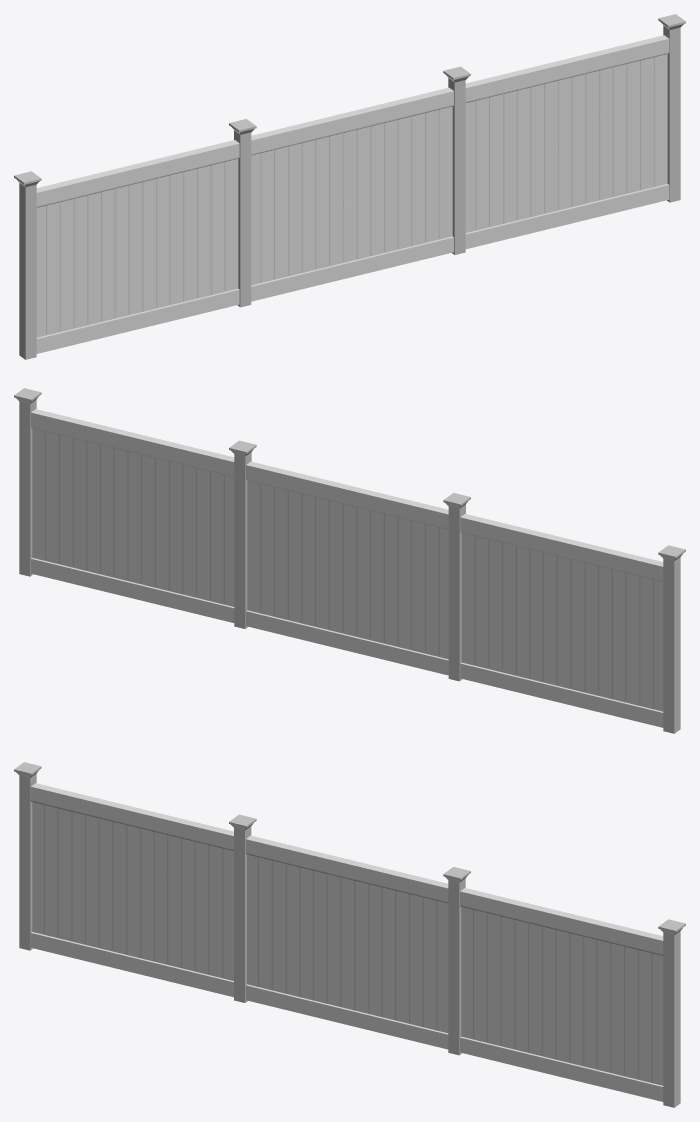
The model's file is White_Pvc_.fbx.
3 renders of one model, top to bottom at view 1: azimuth 30°, elevation 25°; view 2: azimuth 150°, elevation 25°; view 3: azimuth 330°, elevation 25°, orthographic.
Visible parts, largest first — view 1: Pvc_Panel_2, Pvc_Panel_, Pvc_Panel_1, Pvc_Joint_04, Pvc_Joint_03, Pvc_Joint_02, Pvc_Joint_01; view 2: Pvc_Panel_, Pvc_Panel_2, Pvc_Panel_1, Pvc_Joint_04, Pvc_Joint_03, Pvc_Joint_02, Pvc_Joint_01; view 3: Pvc_Panel_2, Pvc_Panel_1, Pvc_Panel_, Pvc_Joint_01, Pvc_Joint_02, Pvc_Joint_04, Pvc_Joint_03.
Part boxes in pixels (x1,y1,x2,y2): Pvc_Panel_2: (465, 35, 669, 249); Pvc_Panel_: (36, 140, 239, 353); Pvc_Panel_1: (251, 87, 453, 301); Pvc_Joint_04: (14, 171, 41, 359); Pvc_Joint_03: (229, 119, 256, 307); Pvc_Joint_02: (443, 66, 470, 254); Pvc_Joint_01: (658, 14, 685, 202); Pvc_Panel_: (460, 513, 663, 727); Pvc_Panel_2: (31, 409, 234, 622); Pvc_Panel_1: (246, 461, 448, 675); Pvc_Joint_04: (658, 545, 685, 733); Pvc_Joint_03: (443, 493, 470, 681); Pvc_Joint_02: (229, 440, 256, 628); Pvc_Joint_01: (14, 388, 41, 576); Pvc_Panel_2: (460, 888, 663, 1101); Pvc_Panel_1: (245, 835, 448, 1049); Pvc_Panel_: (30, 783, 233, 997); Pvc_Joint_01: (658, 919, 685, 1107); Pvc_Joint_02: (443, 867, 470, 1055); Pvc_Joint_04: (14, 762, 41, 950); Pvc_Joint_03: (229, 814, 256, 1002).
Bounding box in the file's own units: 765 × 198 × 20.3.
Materials: 2 (1 with a texture image).
